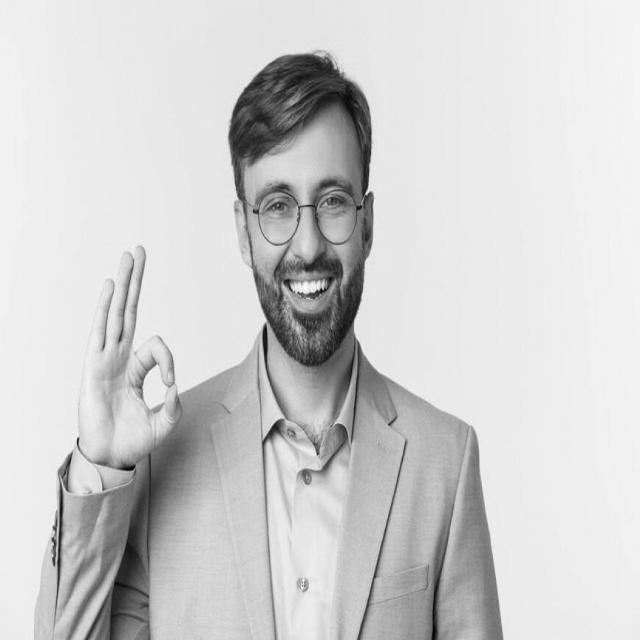perfect: (73, 236, 186, 477)
